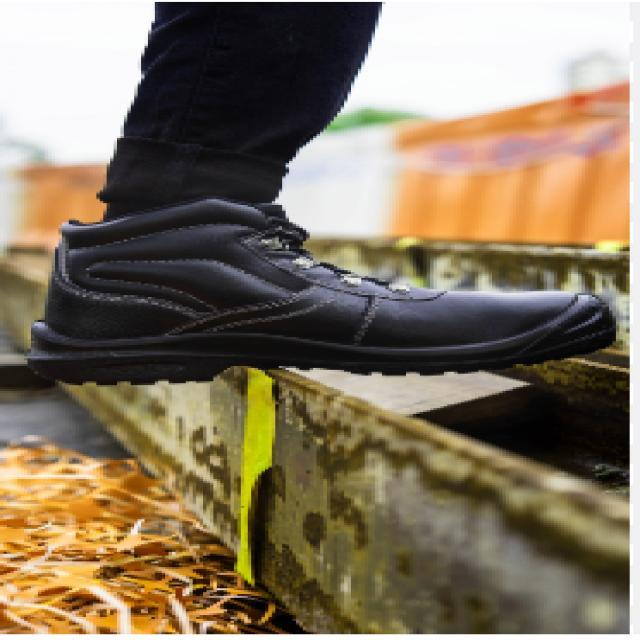boots: (9, 172, 635, 398)
